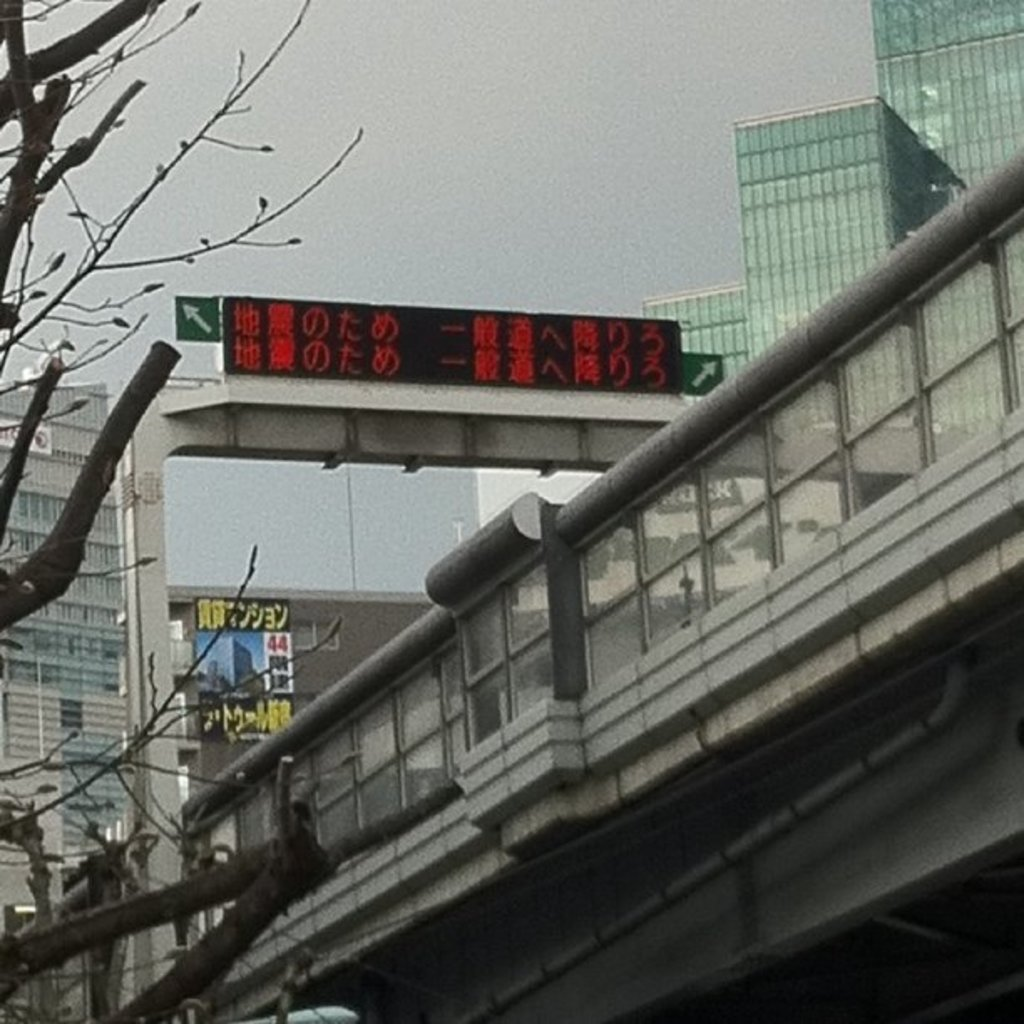Tree: (0, 0, 463, 1023)
